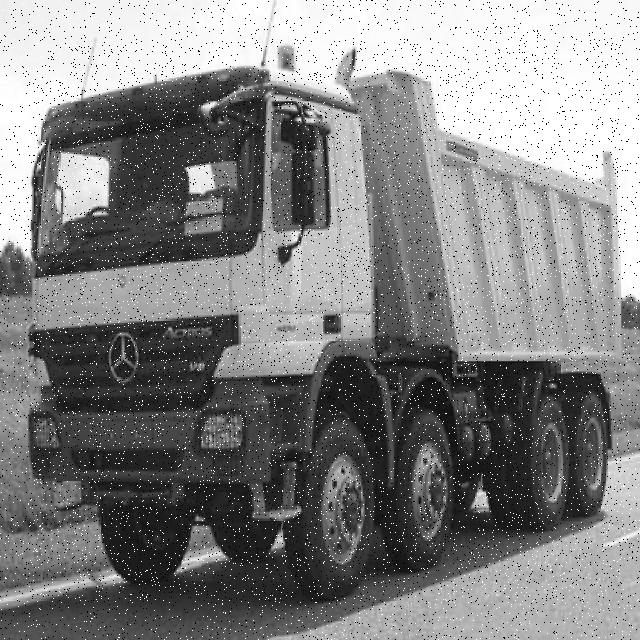Truck- Multi-Axle: (25, 40, 622, 605)
